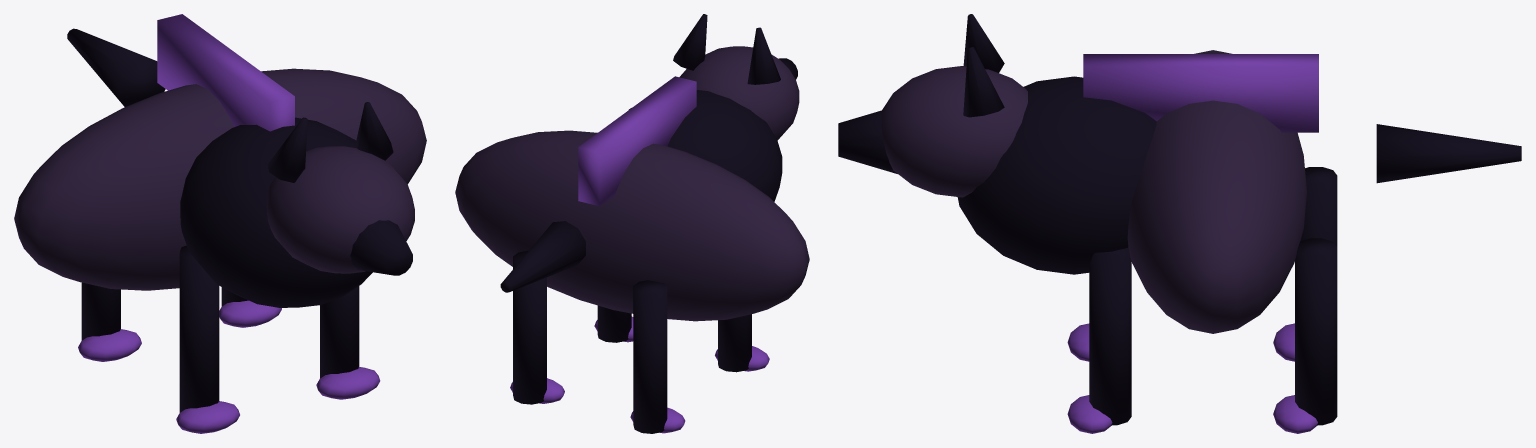
The model's file is prop_creature_rift_hound_t1.glb.
3 renders of one model, left to right at view 1: azimuth 30°, elevation 25°; view 2: azimuth 150°, elevation 25°; view 3: azimuth 270°, elevation 25°, orthographic. The views are drawn at different scales.
Visible parts, largest first — view 1: creature_body, creature_chest, creature_head, wolf_raised_hackle, creature_leg_-1_1, creature_tail, creature_leg_1_1, creature_snout, creature_leg_-1_0, creature_ear_-1, creature_paw_-1_1, creature_paw_1_1 (+3 smaller); view 2: creature_body, wolf_raised_hackle, creature_chest, creature_leg_-1_0, creature_head, creature_leg_1_0, creature_tail, creature_leg_-1_1, creature_ear_-1, creature_ear_1, creature_leg_1_1, creature_paw_-1_0 (+2 smaller); view 3: creature_body, creature_chest, wolf_raised_hackle, creature_head, creature_leg_1_0, creature_leg_1_1, creature_tail, creature_leg_-1_0, creature_snout, creature_ear_1, creature_ear_-1, creature_paw_1_1 (+3 smaller).
Part boxes in pixels (x1,y1,x2,y2): creature_body: (14,68,426,290); creature_chest: (180,117,372,307); creature_head: (266,146,414,273); wolf_raised_hackle: (157,14,294,131); creature_leg_-1_1: (179,245,219,412); creature_tail: (67,28,165,106); creature_leg_1_1: (320,286,359,378); creature_snout: (350,220,412,275); creature_leg_-1_0: (81,282,120,340); creature_ear_-1: (267,117,307,182); creature_paw_-1_1: (176,401,239,433); creature_paw_1_1: (316,367,380,399); creature_body: (455,130,809,321); wolf_raised_hackle: (578,76,696,206); creature_chest: (629,90,782,201); creature_leg_-1_0: (633,280,667,433); creature_head: (679,46,799,140); creature_leg_1_0: (513,250,546,404); creature_tail: (500,221,585,292); creature_leg_-1_1: (718,314,751,372); creature_ear_-1: (747,27,780,84); creature_ear_1: (673,14,707,70); creature_leg_1_1: (597,305,631,342); creature_paw_-1_0: (630,407,685,433); creature_body: (1127,50,1306,333); creature_chest: (957,76,1156,274); wolf_raised_hackle: (1083,54,1318,132); creature_head: (881,66,1027,197); creature_leg_1_0: (1295,238,1337,425); creature_leg_1_1: (1089,248,1131,425); creature_tail: (1376,124,1521,183); creature_leg_-1_0: (1300,167,1337,246); creature_snout: (838,110,897,173); creature_ear_1: (963,47,1004,117); creature_ear_-1: (963,14,1004,72); creature_paw_1_1: (1067,395,1112,433).
Bounding box in the file's own units: 1.61 × 1.32 × 2.26.
